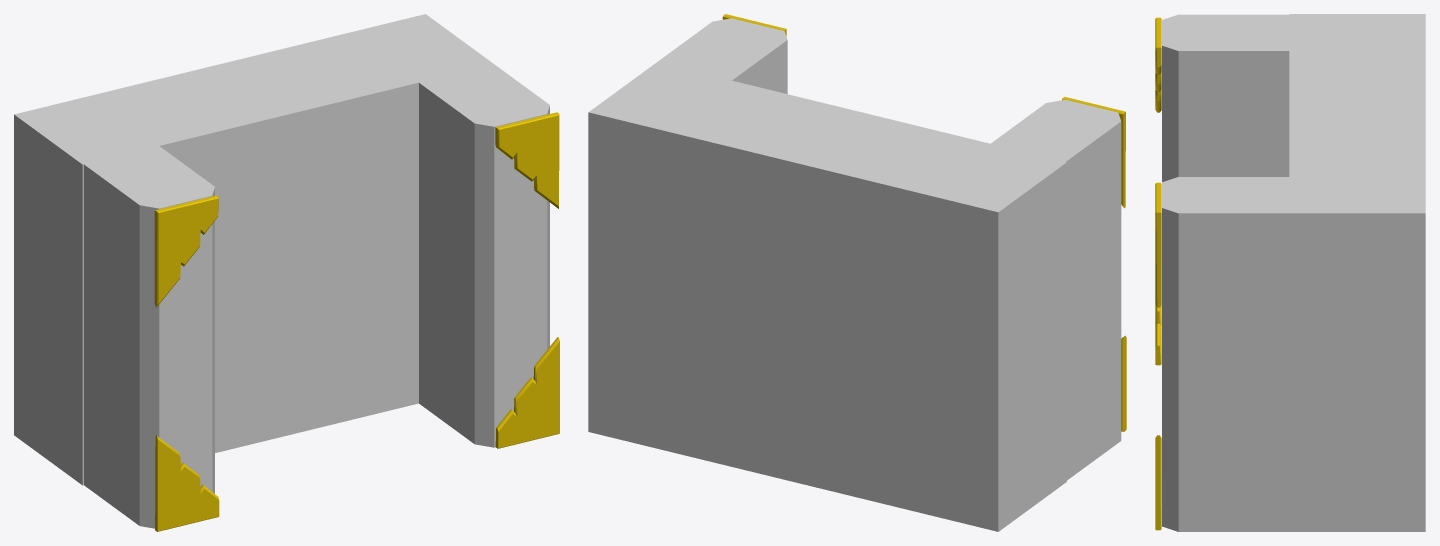
File: PillarTEXT.fbx
3 renders of one model, left to right at view 1: azimuth 30°, elevation 25°; view 2: azimuth 150°, elevation 25°; view 3: azimuth 270°, elevation 25°, orthographic.
Visible parts, largest first — view 1: backwall, rightwall, leftwall, pCube5, pCube1; view 2: backwall, leftwall, rightwall, pCube5; view 3: backwall, rightwall, leftwall, pCube5, pCube1.
Part boxes in pixels (left/top/right/bottom): backwall: left=14, top=14, right=493, bottom=485; rightwall: left=415, top=61, right=549, bottom=447; leftwall: left=80, top=142, right=214, bottom=528; pCube5: left=154, top=112, right=559, bottom=306; pCube1: left=155, top=337, right=559, bottom=531; backwall: left=588, top=62, right=1066, bottom=531; leftwall: left=986, top=99, right=1121, bottom=480; rightwall: left=657, top=18, right=787, bottom=93; pCube5: left=722, top=14, right=1125, bottom=208; backwall: left=1289, top=14, right=1425, bottom=531; rightwall: left=1162, top=177, right=1298, bottom=531; leftwall: left=1162, top=14, right=1298, bottom=181; pCube5: left=1155, top=17, right=1161, bottom=307; pCube1: left=1155, top=304, right=1161, bottom=530.
Bounding box in the file's own units: 30.87 × 23 × 17.69.
